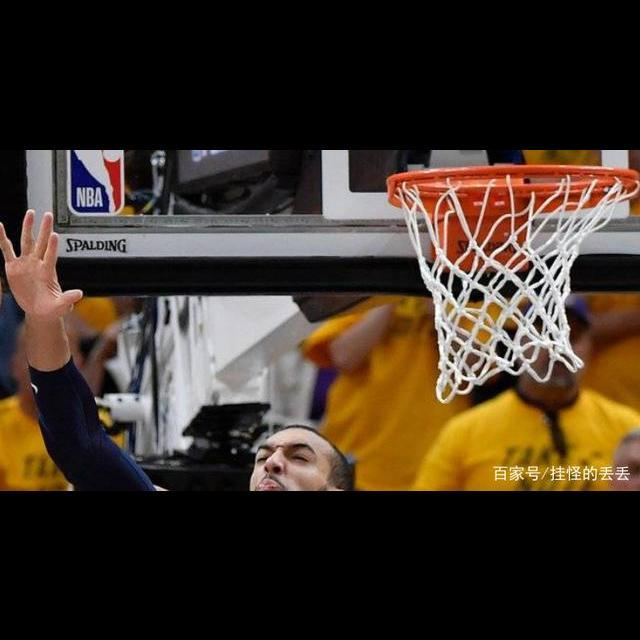rim: (388, 166, 640, 404)
